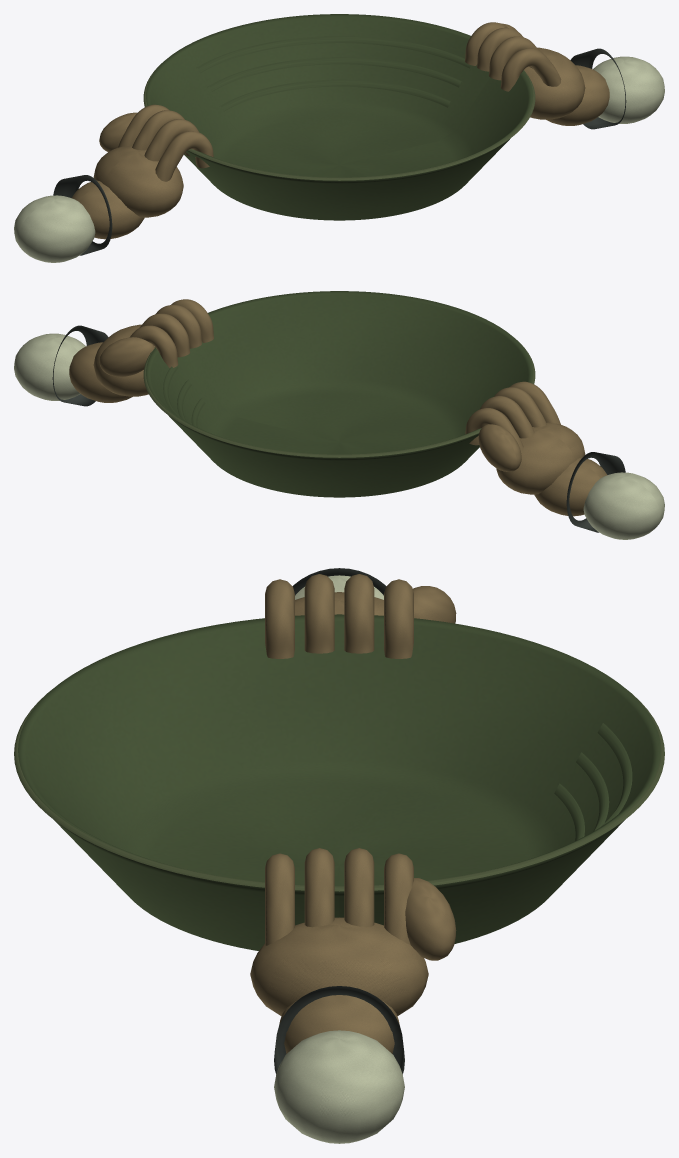
Rendered from hero_pan.glb.
The picture shows the model from 3 angles, top to bottom: view 1: azimuth 30°, elevation 25°; view 2: azimuth 150°, elevation 25°; view 3: azimuth 270°, elevation 25°; orthographic projection. The views are drawn at different scales.
Visible parts, largest first — view 1: pan bowl closed wall, work sleeve, gloved palm, work sleeve.001, gloved palm.001, canvas wrist, internal riffle.002, internal riffle.001, internal riffle, worn rim, canvas wrist.001, one connected curled finger.004 (+10 smaller); view 2: pan bowl closed wall, work sleeve, gloved palm, work sleeve.001, canvas wrist, opposing gloved thumb.001, canvas wrist.001, worn rim, opposing gloved thumb, gloved palm.001, one connected curled finger.002, rounded elastic cuff (+8 smaller); view 3: pan bowl closed wall, work sleeve.001, gloved palm.001, worn rim, canvas wrist.001, opposing gloved thumb.001, one connected curled finger.004, one connected curled finger.001, one connected curled finger.002, one connected curled finger.005, one connected curled finger.006, one connected curled finger (+6 smaller).
Part boxes in pixels (bbox=[...]): pan bowl closed wall: bbox=[146, 14, 532, 220]; work sleeve: bbox=[14, 195, 95, 262]; gloved palm: bbox=[93, 145, 183, 217]; work sleeve.001: bbox=[593, 56, 664, 123]; gloved palm.001: bbox=[524, 47, 585, 119]; canvas wrist: bbox=[71, 180, 144, 239]; internal riffle.002: bbox=[197, 36, 470, 73]; internal riffle.001: bbox=[208, 57, 462, 91]; internal riffle: bbox=[220, 79, 451, 111]; worn rim: bbox=[143, 61, 535, 180]; canvas wrist.001: bbox=[546, 65, 609, 125]; one connected curled finger.004: bbox=[500, 48, 561, 91]; pan bowl closed wall: bbox=[146, 291, 532, 497]; work sleeve: bbox=[583, 472, 664, 539]; gloved palm: bbox=[496, 422, 585, 494]; work sleeve.001: bbox=[14, 333, 85, 400]; canvas wrist: bbox=[534, 457, 607, 516]; opposing gloved thumb.001: bbox=[99, 337, 154, 376]; canvas wrist.001: bbox=[69, 342, 132, 402]; worn rim: bbox=[143, 338, 535, 457]; opposing gloved thumb: bbox=[478, 424, 521, 471]; gloved palm.001: bbox=[93, 324, 154, 396]; one connected curled finger.002: bbox=[480, 396, 534, 438]; rounded elastic cuff: bbox=[566, 452, 625, 532]; pan bowl closed wall: bbox=[18, 614, 660, 950]; work sleeve.001: bbox=[274, 1030, 404, 1143]; gloved palm.001: bbox=[250, 917, 428, 1015]; worn rim: bbox=[14, 692, 664, 891]; canvas wrist.001: bbox=[279, 995, 399, 1053]; opposing gloved thumb.001: bbox=[405, 878, 456, 960]; one connected curled finger.004: bbox=[265, 853, 294, 945]; one connected curled finger.001: bbox=[304, 574, 334, 653]; one connected curled finger.002: bbox=[344, 574, 374, 653]; one connected curled finger.005: bbox=[304, 848, 334, 927]; one connected curled finger.006: bbox=[344, 848, 374, 927]; one connected curled finger: bbox=[265, 579, 294, 658].
Size of the model in its own units: 0.62 by 0.1057 by 0.328.
Materials: 5 (5 with a texture image).
